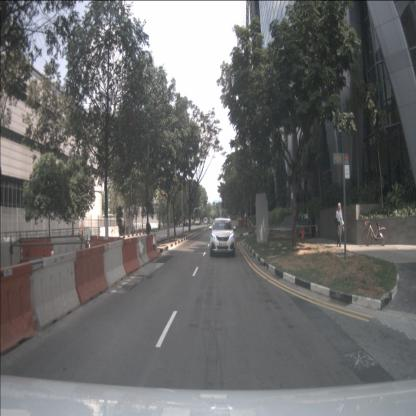human-pedestrian-adult: (335, 202, 345, 247), (248, 218, 251, 229)
movable_object-barrier: (30, 252, 80, 331), (0, 262, 37, 355), (75, 245, 108, 306), (51, 236, 86, 276), (102, 239, 127, 288), (90, 235, 123, 269), (22, 239, 51, 277), (122, 238, 140, 275), (136, 235, 150, 267), (146, 234, 159, 262), (231, 220, 239, 227), (239, 219, 246, 227)
movable_object-trafficcone: (301, 225, 305, 242), (315, 223, 319, 238)
vehicle-bicycle: (362, 218, 388, 246)
vehicle-car: (210, 218, 235, 256), (183, 219, 189, 227), (204, 217, 209, 225)
vehicle-truck: (194, 217, 199, 225)
